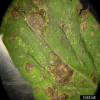Potato leaf early blight: (1, 0, 99, 99)
